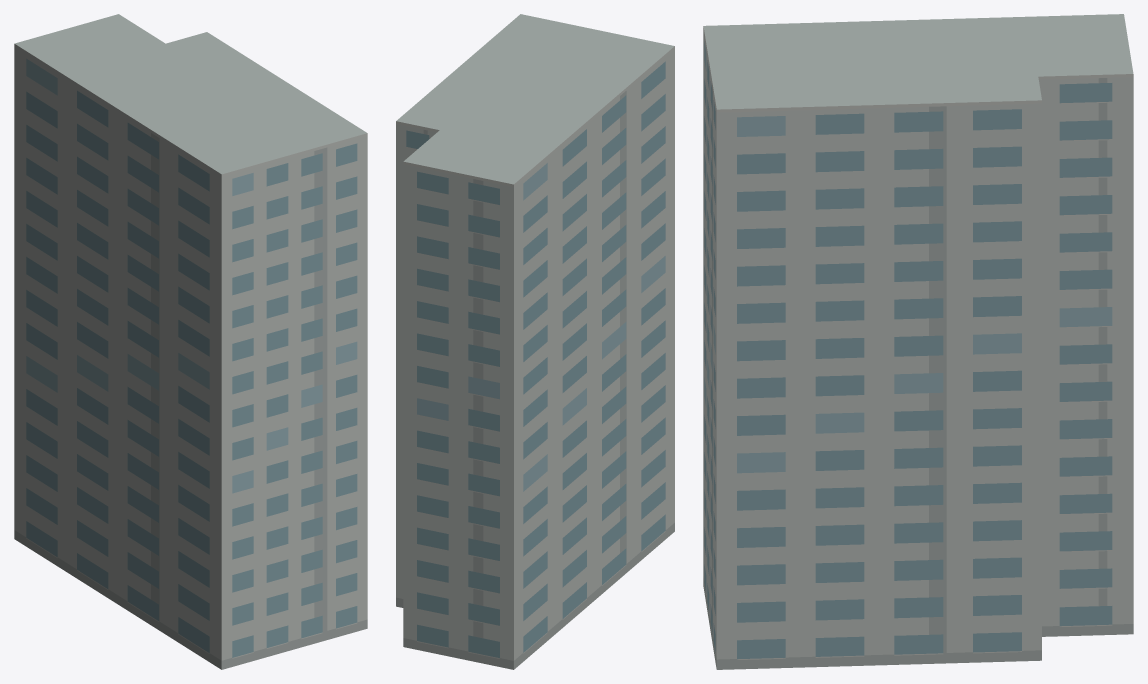
File: residential-c3e0e45c-33a6-4653-a9e1-bb6df36a49da.glb
3 renders of one model, left to right at view 1: azimuth 30°, elevation 25°; view 2: azimuth 150°, elevation 25°; view 3: azimuth 270°, elevation 25°, orthographic. The views are drawn at different scales.
Visible parts, largest first — view 1: residential-c3e0e45c-33a6-4653-a9e1-bb6df36a49da.tmp; view 2: residential-c3e0e45c-33a6-4653-a9e1-bb6df36a49da.tmp; view 3: residential-c3e0e45c-33a6-4653-a9e1-bb6df36a49da.tmp.
Part boxes in pixels (left/top/right/bottom): residential-c3e0e45c-33a6-4653-a9e1-bb6df36a49da.tmp: left=14, top=14, right=367, bottom=669; residential-c3e0e45c-33a6-4653-a9e1-bb6df36a49da.tmp: left=396, top=14, right=674, bottom=669; residential-c3e0e45c-33a6-4653-a9e1-bb6df36a49da.tmp: left=703, top=14, right=1133, bottom=669.
Size of the model in its own units: 15.37 by 42 by 29.22.
